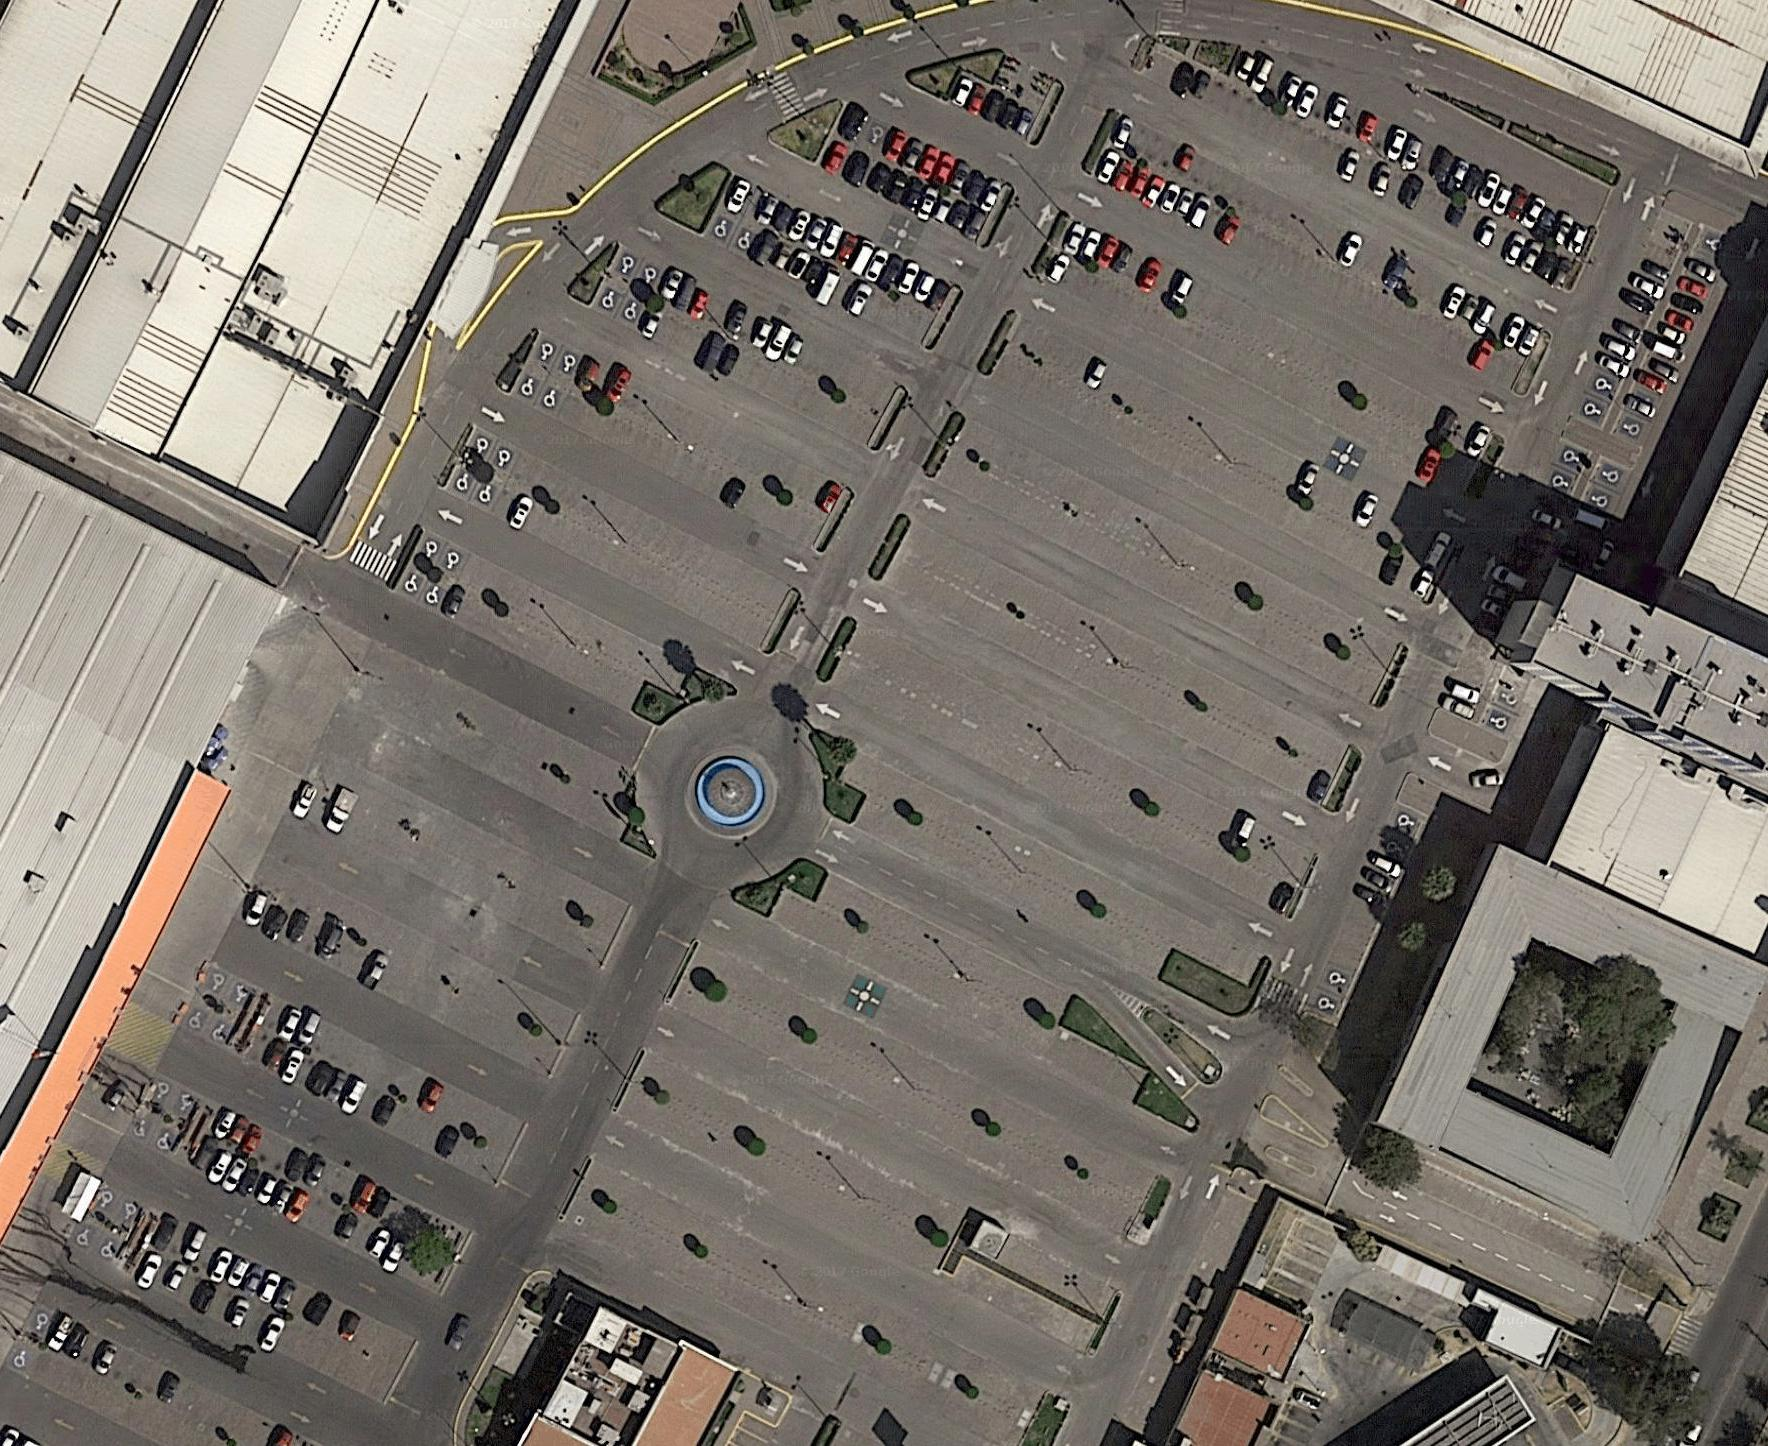parkingspot: (822, 652, 1303, 920), (843, 617, 1319, 887), (681, 940, 1162, 1207), (577, 1154, 1051, 1424), (665, 973, 1142, 1240), (1000, 308, 1461, 575), (874, 548, 1336, 812), (985, 346, 1443, 611), (931, 446, 1388, 709), (894, 515, 1354, 774), (949, 413, 1402, 672), (1104, 109, 1545, 363), (1054, 213, 1498, 464), (1037, 247, 1480, 498), (1088, 144, 1527, 395), (1138, 44, 1576, 294), (836, 744, 1269, 989), (764, 887, 1151, 1105), (1223, 44, 1595, 258), (628, 1044, 971, 1246), (457, 421, 796, 620), (611, 1082, 952, 1279), (229, 882, 564, 1082), (282, 775, 618, 973), (248, 849, 582, 1048), (300, 741, 634, 938), (441, 459, 775, 653), (523, 324, 849, 518), (849, 794, 1172, 982), (507, 366, 830, 552), (602, 238, 902, 417), (584, 275, 883, 449), (339, 669, 631, 846), (408, 526, 698, 694), (355, 636, 639, 804), (131, 1243, 401, 1408), (257, 992, 529, 1155), (204, 1102, 476, 1265), (148, 1210, 419, 1373), (239, 1031, 511, 1189), (188, 1138, 457, 1298), (811, 868, 1076, 1026), (391, 559, 648, 718), (19, 1301, 285, 1445), (714, 167, 954, 319), (698, 204, 935, 349), (1300, 799, 1427, 1028), (1608, 223, 1737, 449), (1570, 208, 1693, 432), (1, 1333, 247, 1445), (831, 98, 1006, 214), (814, 134, 990, 247), (946, 1251, 1103, 1356), (991, 1230, 1123, 1323), (946, 73, 1041, 142), (1438, 644, 1502, 725), (1474, 661, 1536, 741), (82, 1179, 148, 1240), (138, 1072, 207, 1130), (178, 992, 242, 1053), (194, 960, 261, 1017), (1579, 454, 1634, 521), (1536, 439, 1593, 504), (123, 1107, 188, 1161), (68, 1216, 131, 1268)
